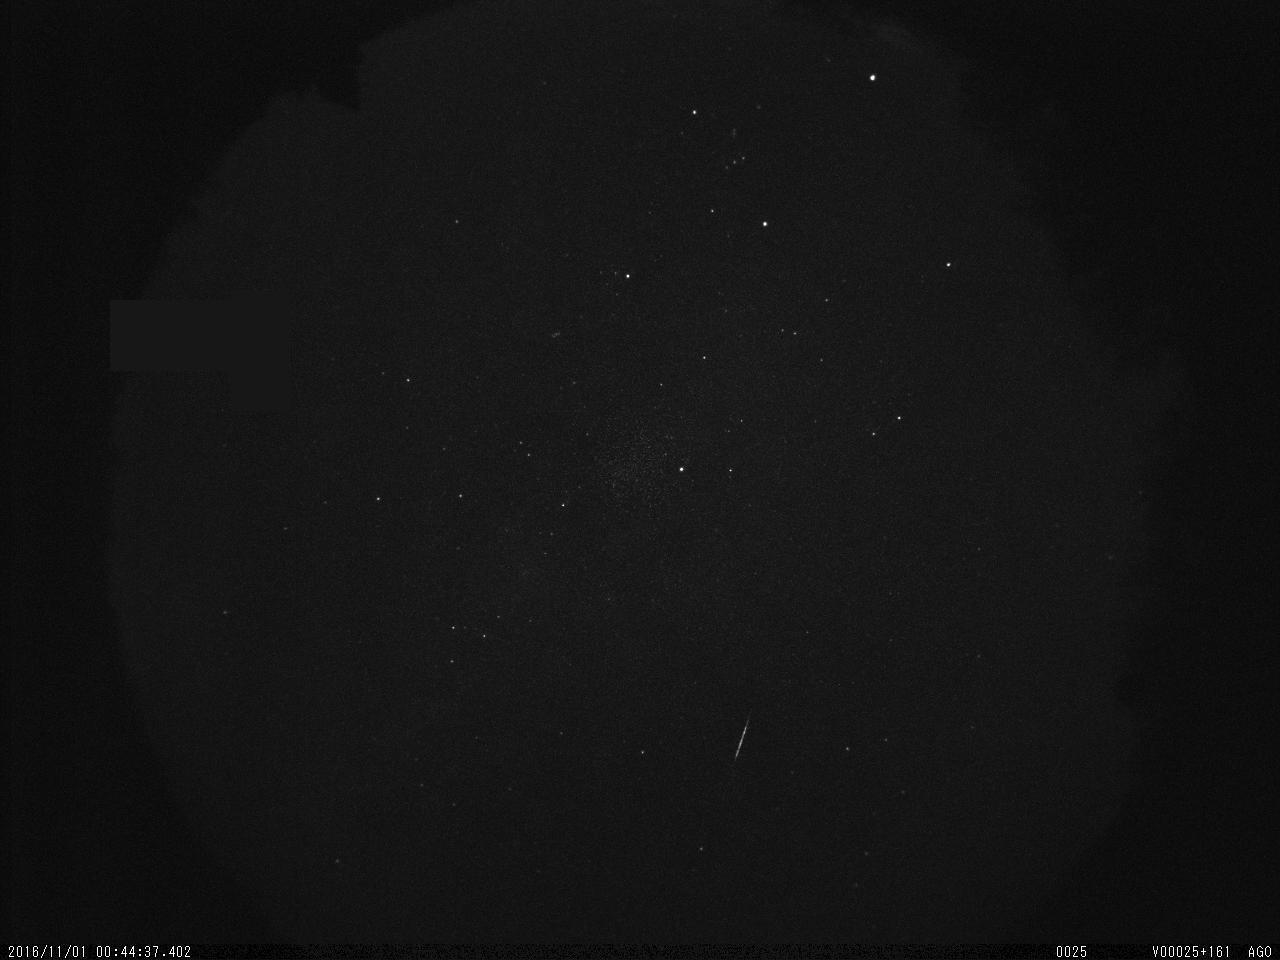meteor: (726, 700, 767, 776)
